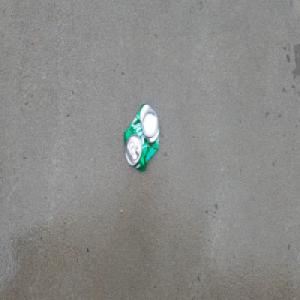SodaCan: (123, 102, 161, 174)
